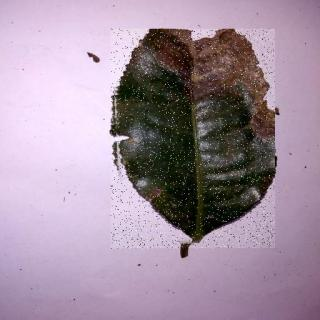Anthracnose: (112, 31, 276, 251)
